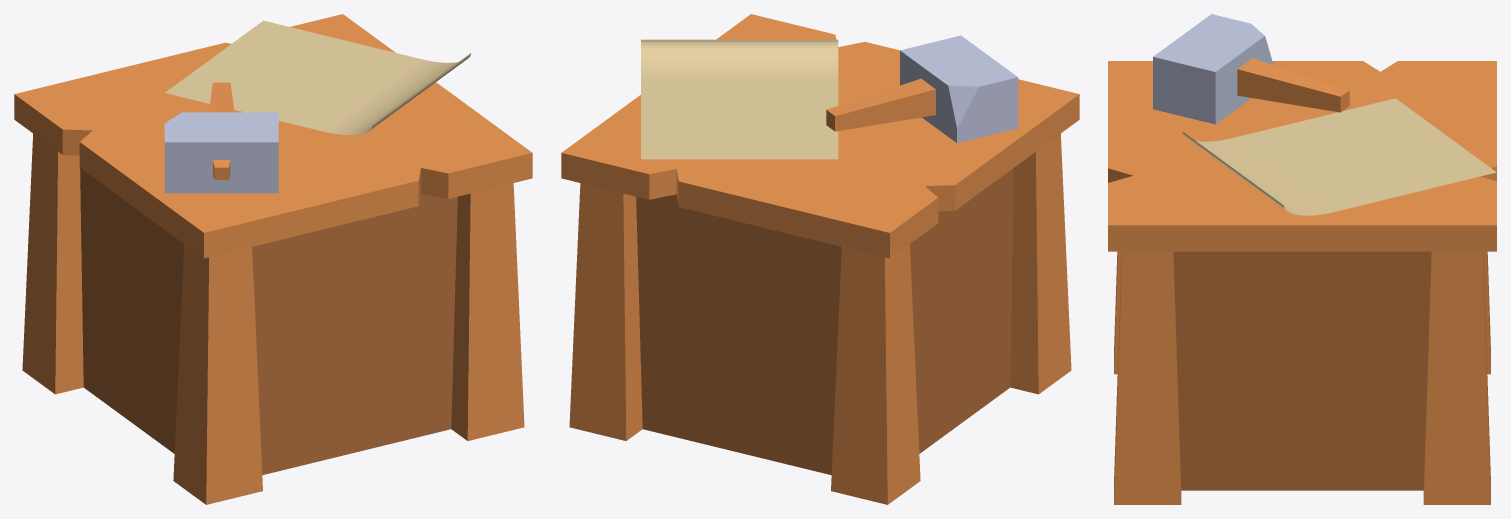
Rendered from warehouse_cutting_table.glb.
3 renders of one model, left to right at view 1: azimuth 30°, elevation 25°; view 2: azimuth 150°, elevation 25°; view 3: azimuth 270°, elevation 25°, orthographic. The views are drawn at different scales.
Visible parts, largest first — view 1: Prop_04_04_workbench_2, Prop_03_03_workbench_1, Prop_00_00_paper_1, Prop_02_02_hammer_2, Prop_01_01_hammer_1; view 2: Prop_04_04_workbench_2, Prop_03_03_workbench_1, Prop_00_00_paper_1, Prop_02_02_hammer_2, Prop_01_01_hammer_1; view 3: Prop_04_04_workbench_2, Prop_03_03_workbench_1, Prop_00_00_paper_1, Prop_02_02_hammer_2, Prop_01_01_hammer_1.
Boxes of the visible parts, x1=… form: Prop_04_04_workbench_2: x1=14, y1=14, x2=532, y2=504; Prop_03_03_workbench_1: x1=80, y1=168, x2=457, y2=475; Prop_00_00_paper_1: x1=165, y1=20, x2=470, y2=135; Prop_02_02_hammer_2: x1=164, y1=112, x2=278, y2=193; Prop_01_01_hammer_1: x1=209, y1=82, x2=234, y2=179; Prop_04_04_workbench_2: x1=561, y1=14, x2=1079, y2=504; Prop_03_03_workbench_1: x1=636, y1=168, x2=1013, y2=475; Prop_00_00_paper_1: x1=641, y1=39, x2=838, y2=159; Prop_02_02_hammer_2: x1=900, y1=35, x2=1018, y2=143; Prop_01_01_hammer_1: x1=826, y1=78, x2=935, y2=131; Prop_04_04_workbench_2: x1=1108, y1=61, x2=1496, y2=504; Prop_03_03_workbench_1: x1=1173, y1=251, x2=1431, y2=490; Prop_00_00_paper_1: x1=1183, y1=98, x2=1496, y2=215; Prop_02_02_hammer_2: x1=1153, y1=14, x2=1273, y2=124; Prop_01_01_hammer_1: x1=1237, y1=58, x2=1349, y2=112.
Size of the model in its own units: 1.02 by 0.9 by 0.9475.
